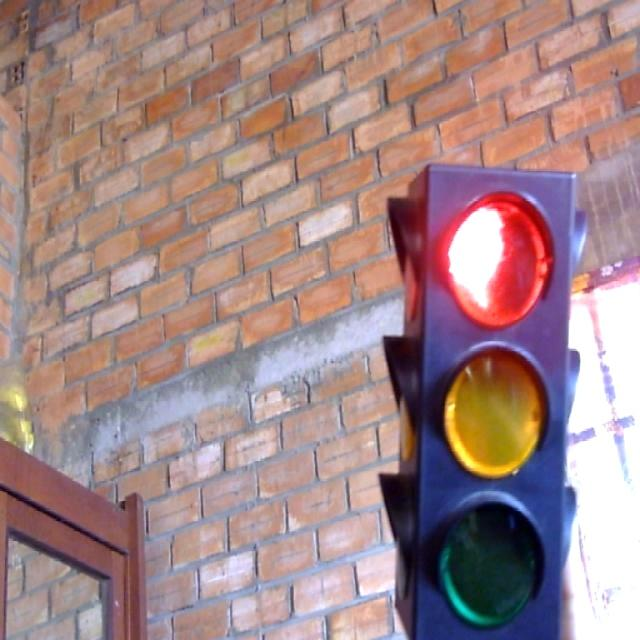Red: (392, 160, 576, 640)
